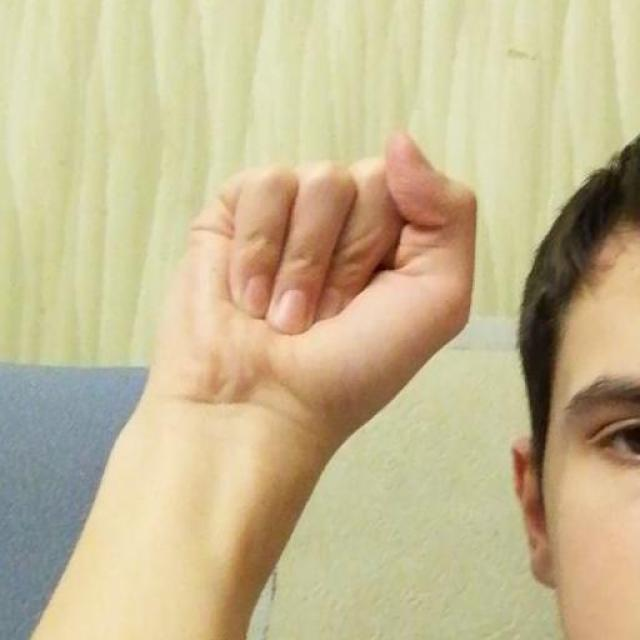hand: (144, 126, 478, 450)
